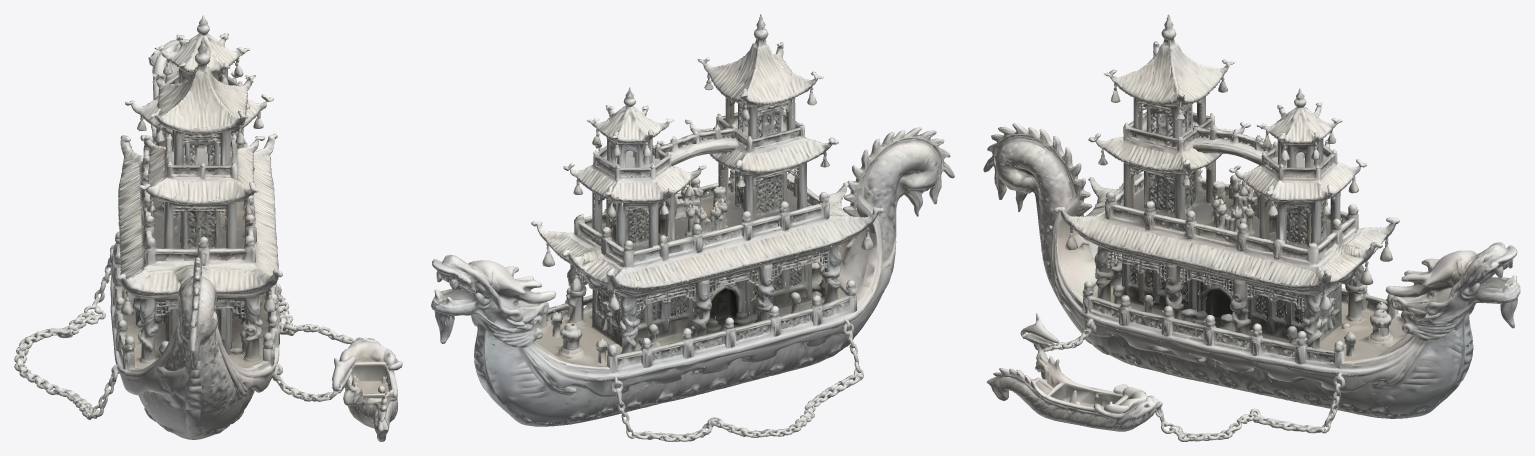
The model's file is modern-dragon-boat.glb.
3 views of the same model, side by side, from view 1: azimuth 30°, elevation 25°; view 2: azimuth 150°, elevation 25°; view 3: azimuth 270°, elevation 25° (orthographic). The views are drawn at different scales.
Visible parts, largest first — view 1: tripo_node_454d48b7-a0df-40cc-a349-0f18fd21df8f; view 2: tripo_node_454d48b7-a0df-40cc-a349-0f18fd21df8f; view 3: tripo_node_454d48b7-a0df-40cc-a349-0f18fd21df8f.
Part boxes in pixels (x1,y1,x2,y2): tripo_node_454d48b7-a0df-40cc-a349-0f18fd21df8f: (14, 14, 402, 441); tripo_node_454d48b7-a0df-40cc-a349-0f18fd21df8f: (431, 14, 954, 441); tripo_node_454d48b7-a0df-40cc-a349-0f18fd21df8f: (983, 14, 1520, 441).
Size of the model in its own units: 0.582 by 0.7036 by 0.9798.
Materials: 1 (1 with a texture image).
